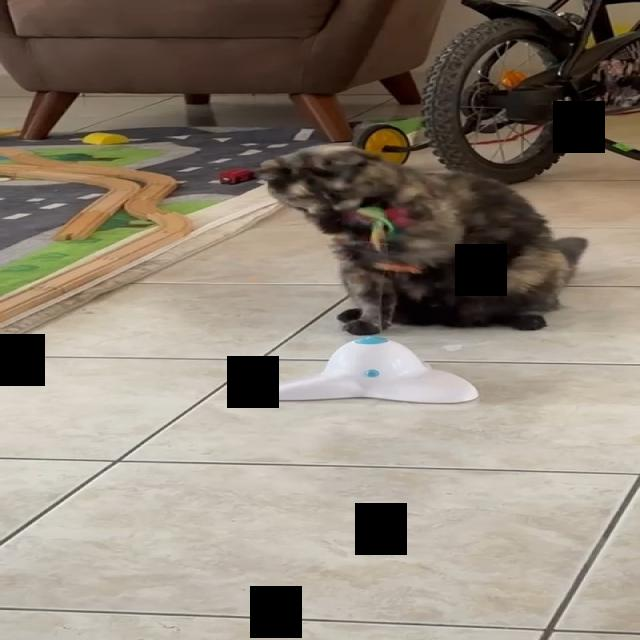authorized: (253, 142, 588, 336)
